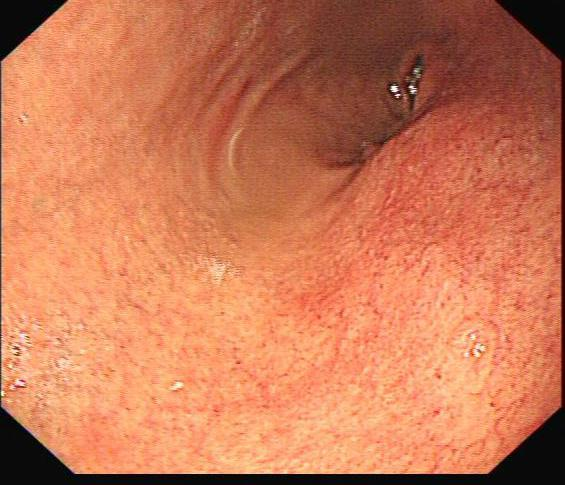Polyp: (442, 312, 503, 380)
